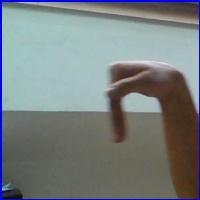del: (99, 55, 191, 151)
